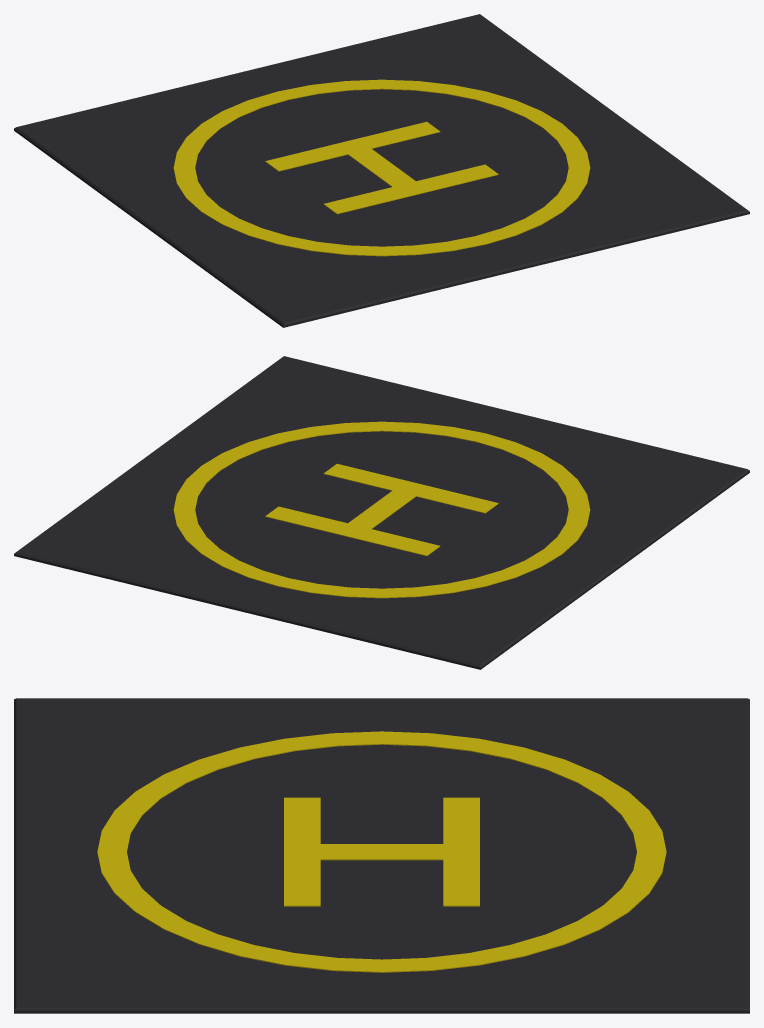
The model's file is helipad.obj.
3 views of the same model, one above another, from view 1: azimuth 30°, elevation 25°; view 2: azimuth 150°, elevation 25°; view 3: azimuth 270°, elevation 25° (orthographic). The views are drawn at different scales.
Size of the model in its own units: 15 by 0.145 by 15.
